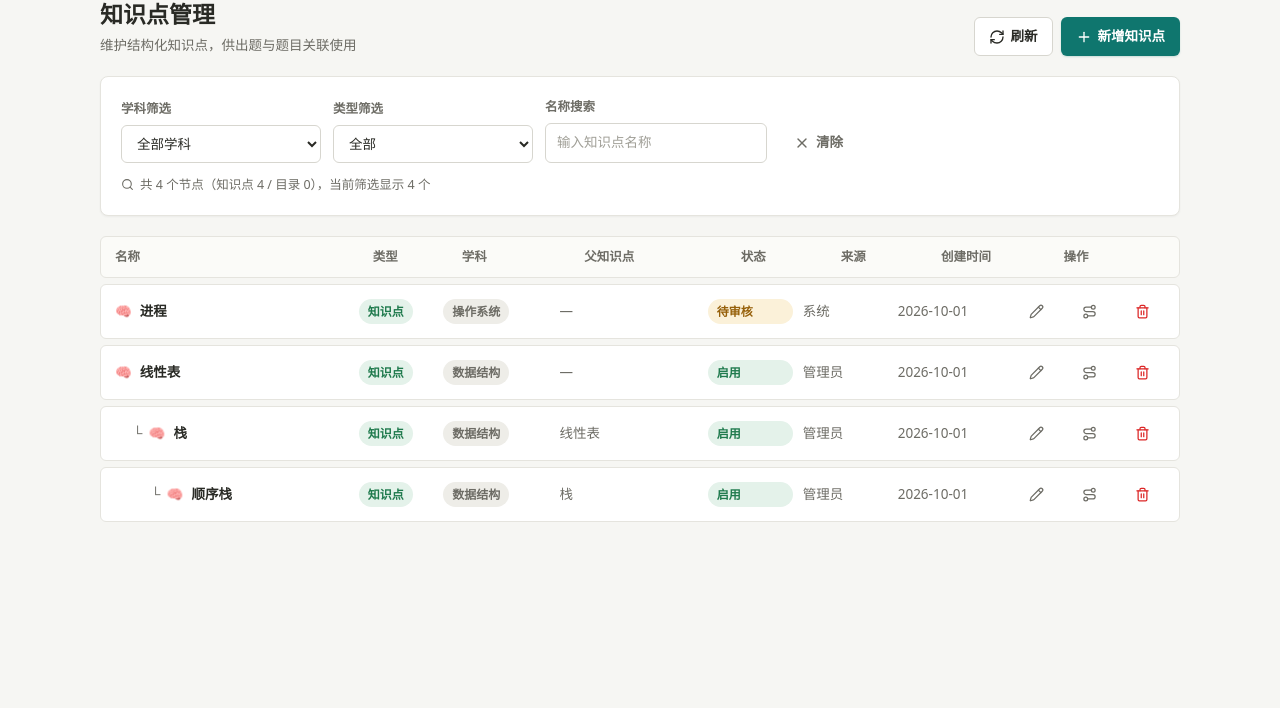
Test: AdminKnowledgePointsView › 名称或学科为空时不提交
Click the button "新增知识点" at (1120,37), box x1=1060 y1=17 x2=1180 y2=56
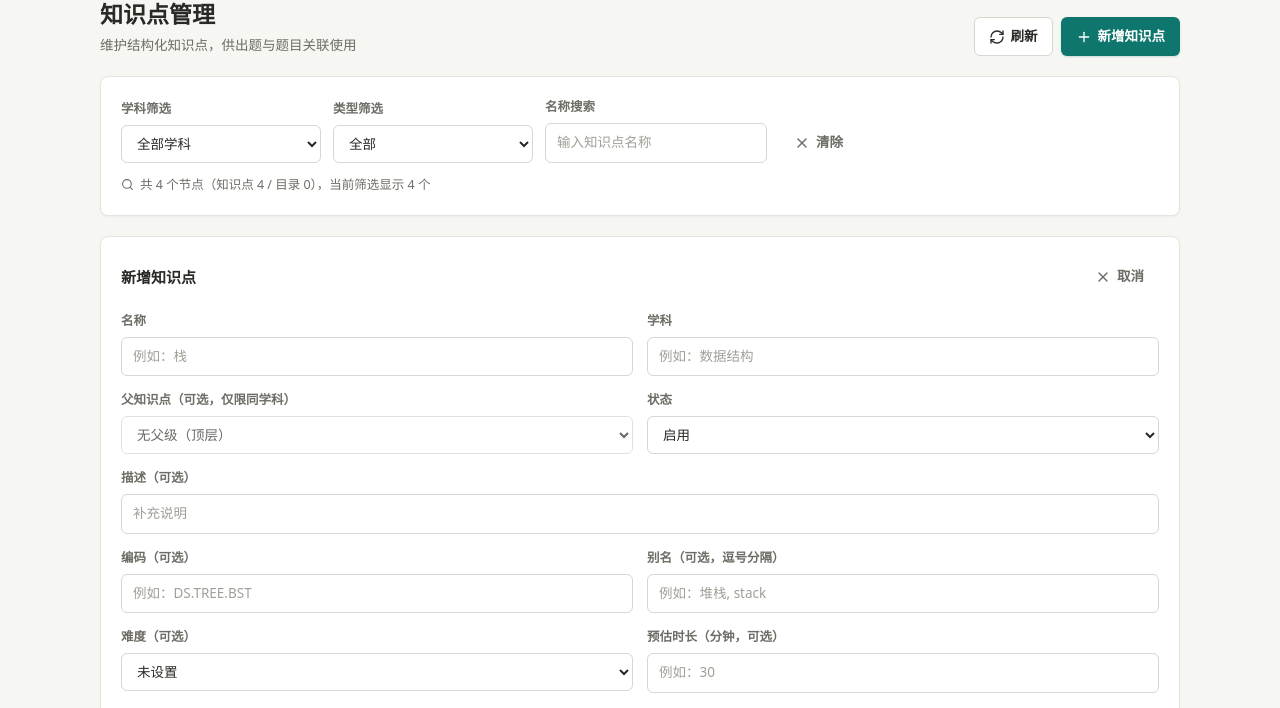
Type "只有名称" into the field with placeholder "例如：栈" at (377,356), box x1=121 y1=336 x2=633 y2=376
(page scrolled)
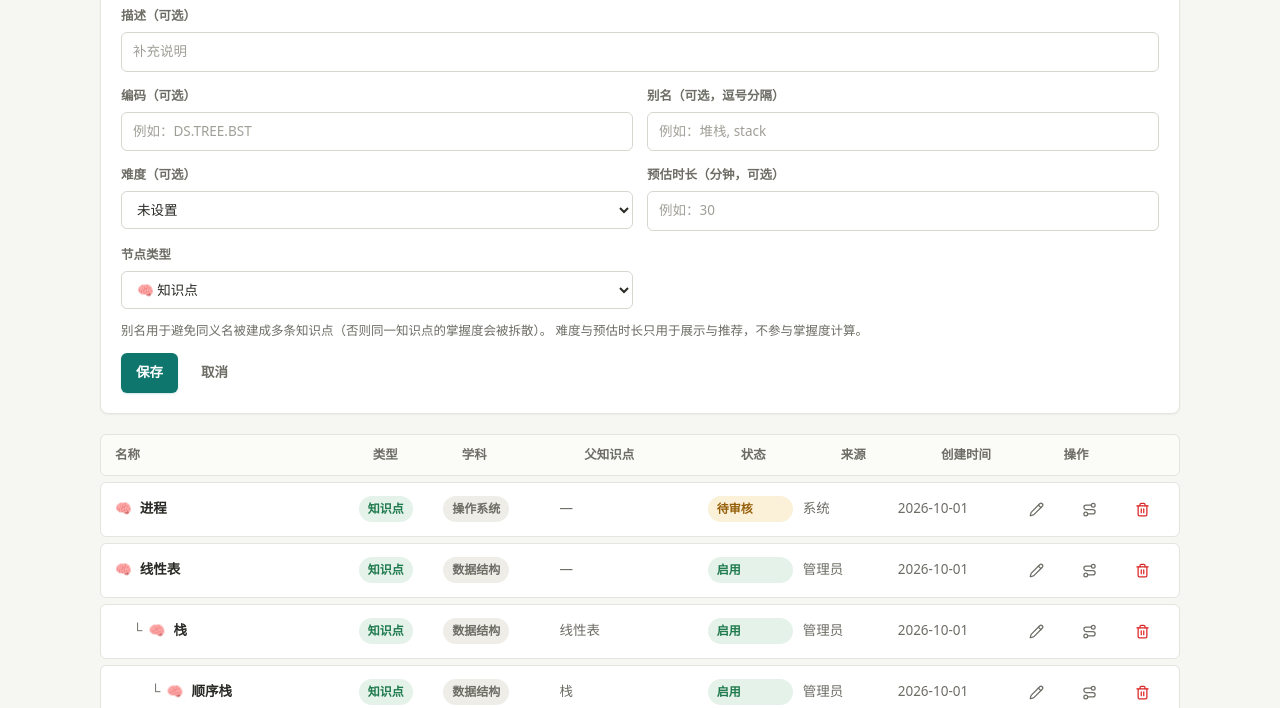
Click the button "保存" at (150,373), box x1=121 y1=353 x2=178 y2=392
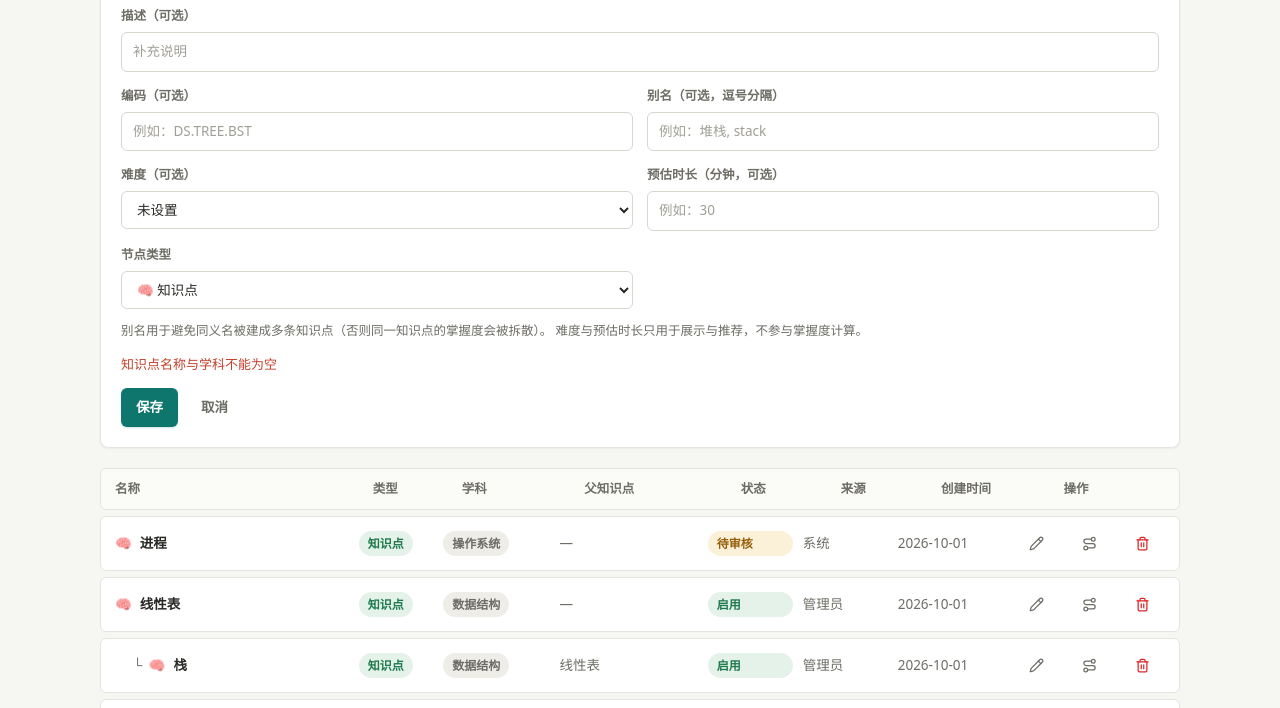
Check: the text "知识点名称与学科不能为空" is shown, box x1=121 y1=355 x2=277 y2=373
